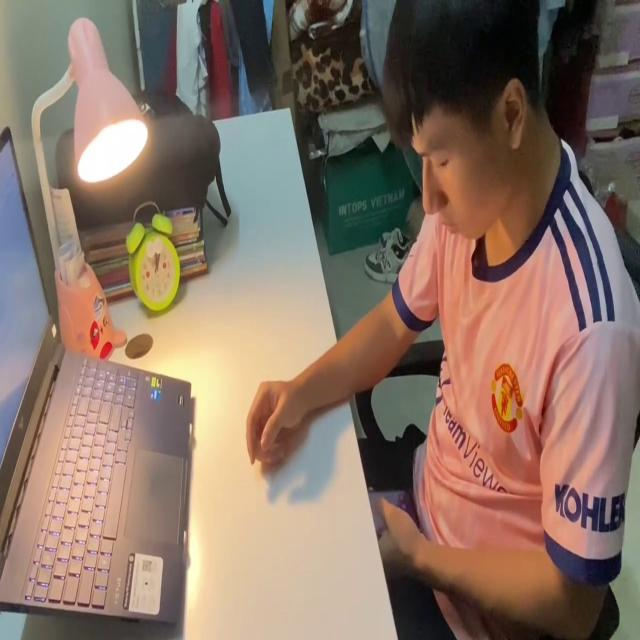laptop: (2, 123, 192, 622)
phone: (371, 478, 414, 532)
student: (243, 3, 639, 640)
